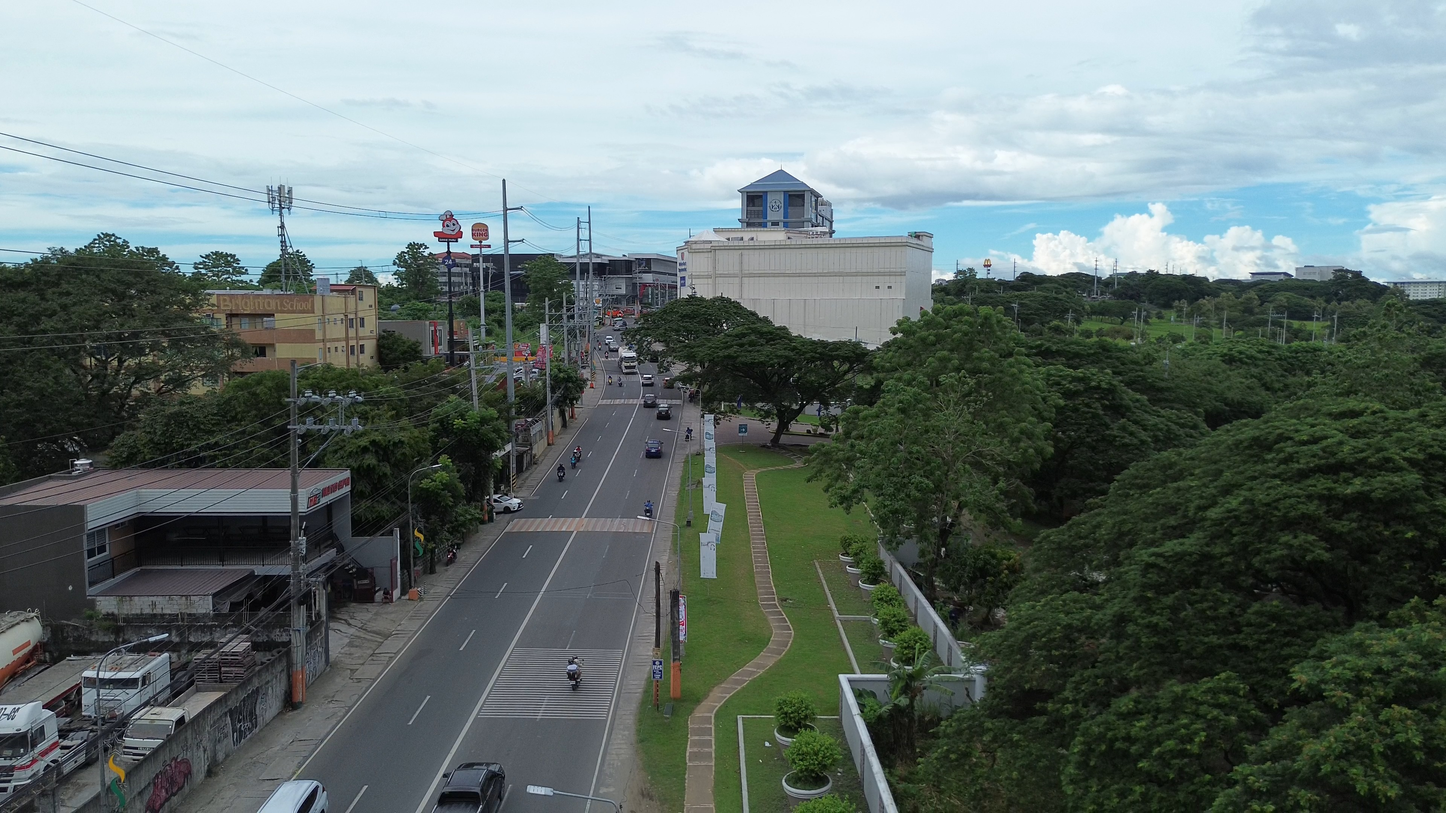car: (490, 494, 523, 513), (645, 440, 662, 458), (655, 403, 671, 419), (642, 394, 657, 408)
motorcycle: (567, 657, 582, 690), (444, 545, 457, 566), (556, 465, 566, 482), (644, 501, 653, 518)
truck: (0, 658, 96, 802), (0, 701, 87, 802)
vehicle: (121, 690, 223, 761), (0, 702, 60, 801), (82, 654, 171, 718), (432, 763, 505, 813), (0, 611, 42, 686), (258, 780, 328, 813), (566, 656, 583, 690), (619, 349, 638, 374), (612, 317, 626, 330), (640, 374, 654, 386), (662, 377, 673, 388)
